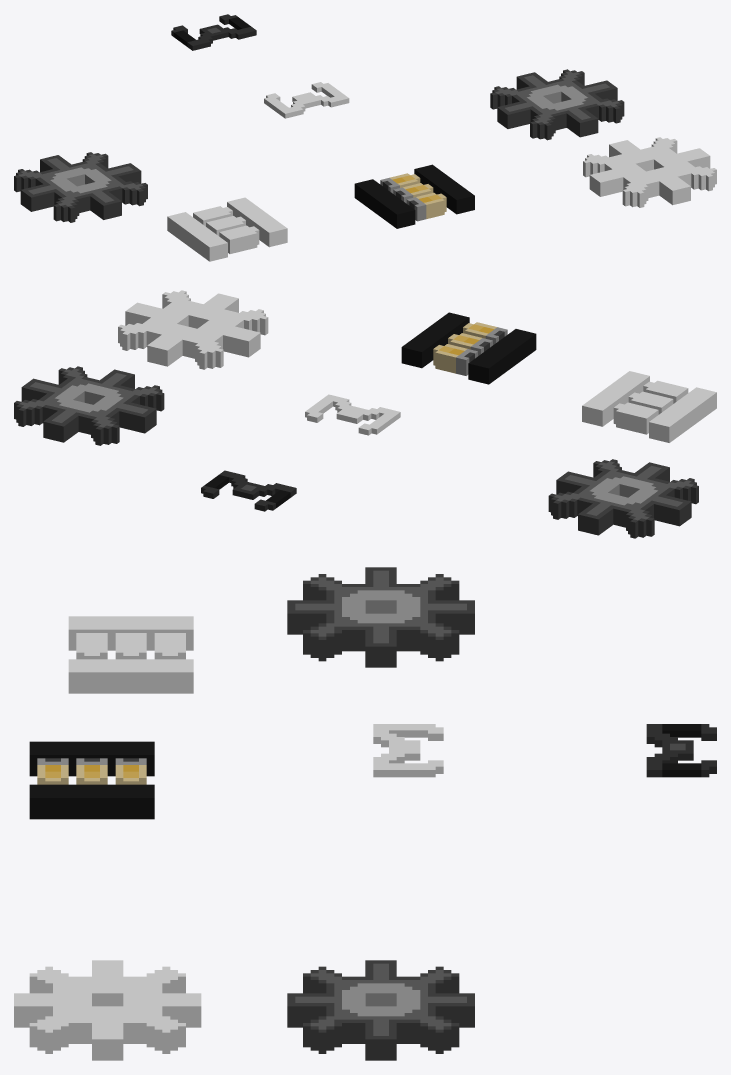
File: icons.dae
3 renders of one model, top to bottom at view 1: azimuth 30°, elevation 25°; view 2: azimuth 150°, elevation 25°; view 3: azimuth 270°, elevation 25°, orthographic. The views are drawn at different scales.
Visible parts, largest first — view 1: Box_2, gear, gear_red, bullets, bullets_red, wheel_red, wheel; view 2: Box_2, gear, gear_red, bullets, bullets_red, wheel, wheel_red; view 3: gear, Box_2, gear_red, bullets, bullets_red, wheel, wheel_red.
Boxes of the visible parts, <box> form: Box_2: <box>490,69,624,140</box>; gear: <box>14,152,147,222</box>; gear_red: <box>583,137,716,207</box>; bullets: <box>354,164,474,228</box>; bullets_red: <box>167,197,287,261</box>; wheel_red: <box>264,82,349,118</box>; wheel: <box>171,14,256,50</box>; Box_2: <box>14,366,164,445</box>; gear: <box>548,459,698,538</box>; gear_red: <box>118,290,268,369</box>; bullets: <box>401,312,536,384</box>; bullets_red: <box>582,371,716,442</box>; wheel: <box>201,470,296,511</box>; wheel_red: <box>305,394,400,435</box>; gear: <box>287,567,474,667</box>; Box_2: <box>287,960,474,1060</box>; gear_red: <box>14,960,201,1060</box>; bullets: <box>29,741,154,819</box>; bullets_red: <box>68,616,193,693</box>; wheel: <box>646,724,716,777</box>; wheel_red: <box>373,724,443,777</box>.
Size of the model in its own units: 128 by 14 by 90.
